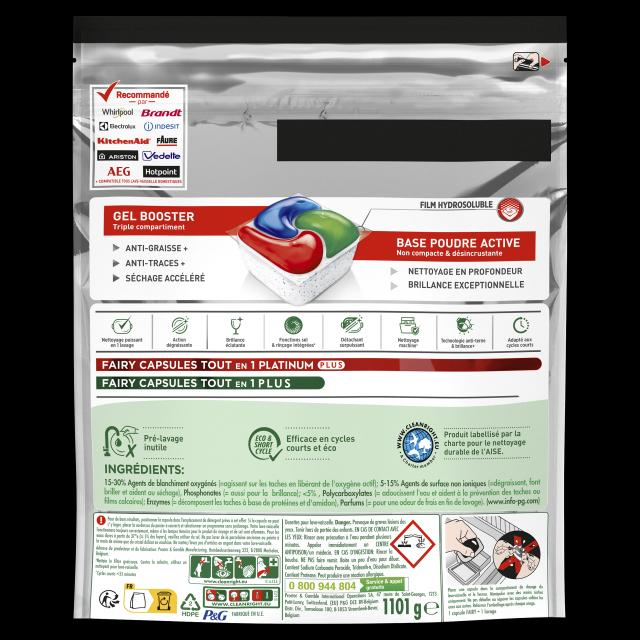GHS_Symbol_CORROSION: (389, 519, 436, 569)
